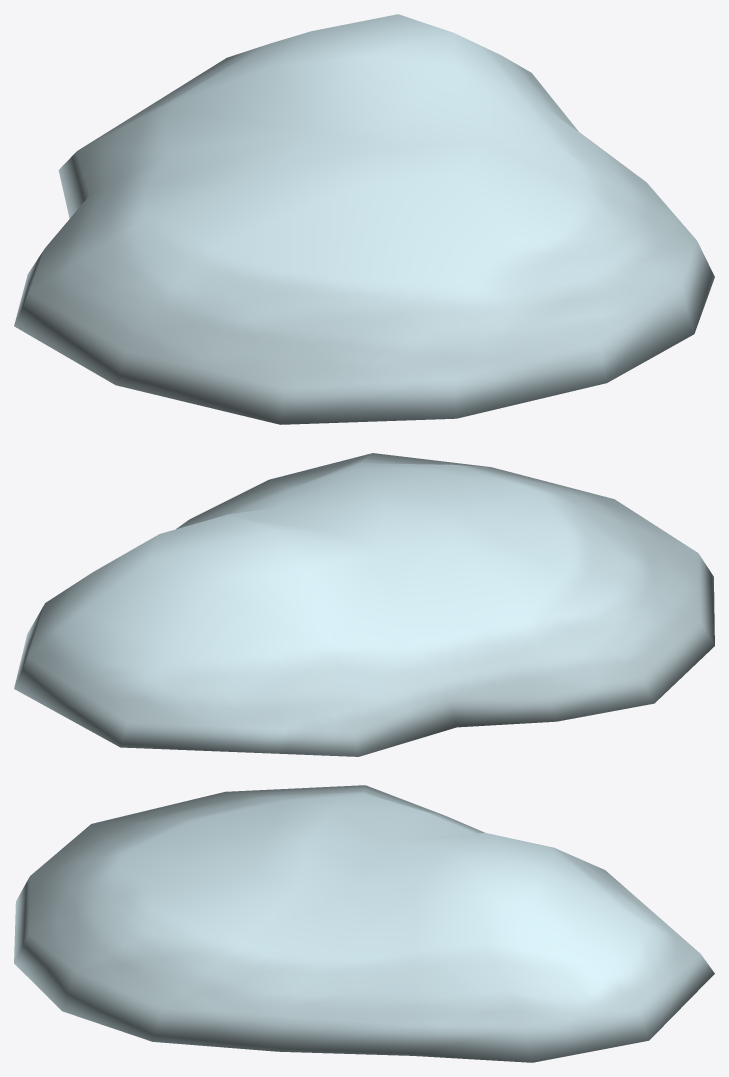
The model's file is Ice_snow_01.fbx.
The picture shows the model from 3 angles, top to bottom: view 1: azimuth 30°, elevation 25°; view 2: azimuth 150°, elevation 25°; view 3: azimuth 270°, elevation 25°; orthographic projection. The views are drawn at different scales.
Parts seen in each view (by area): view 1: Ice_snow_01; view 2: Ice_snow_01; view 3: Ice_snow_01.
Boxes of the visible parts, x1=… form: Ice_snow_01: x1=14, y1=14, x2=714, y2=424; Ice_snow_01: x1=14, y1=453, x2=714, y2=756; Ice_snow_01: x1=14, y1=785, x2=714, y2=1062.
Size of the model in its own units: 73.39 by 15.45 by 83.79.
